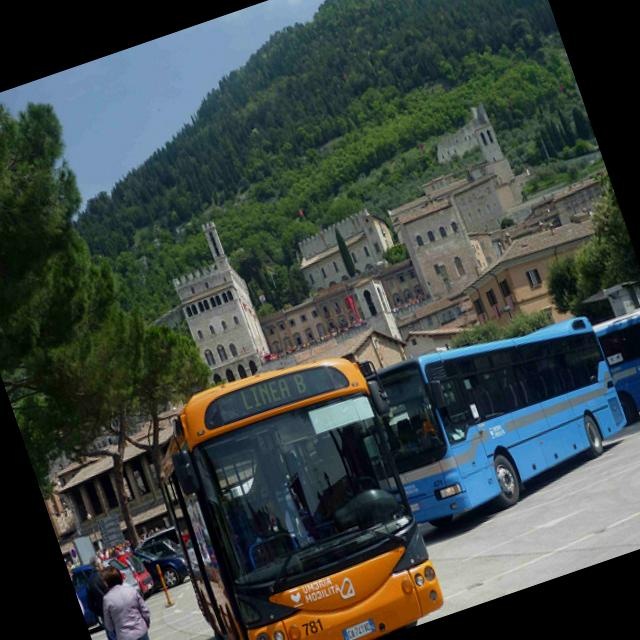Vehicle: (127, 332, 458, 640), (363, 297, 640, 540), (595, 302, 640, 418), (134, 532, 192, 594), (68, 562, 110, 630), (101, 550, 143, 606), (138, 534, 187, 578), (118, 546, 154, 596), (138, 524, 184, 560)
